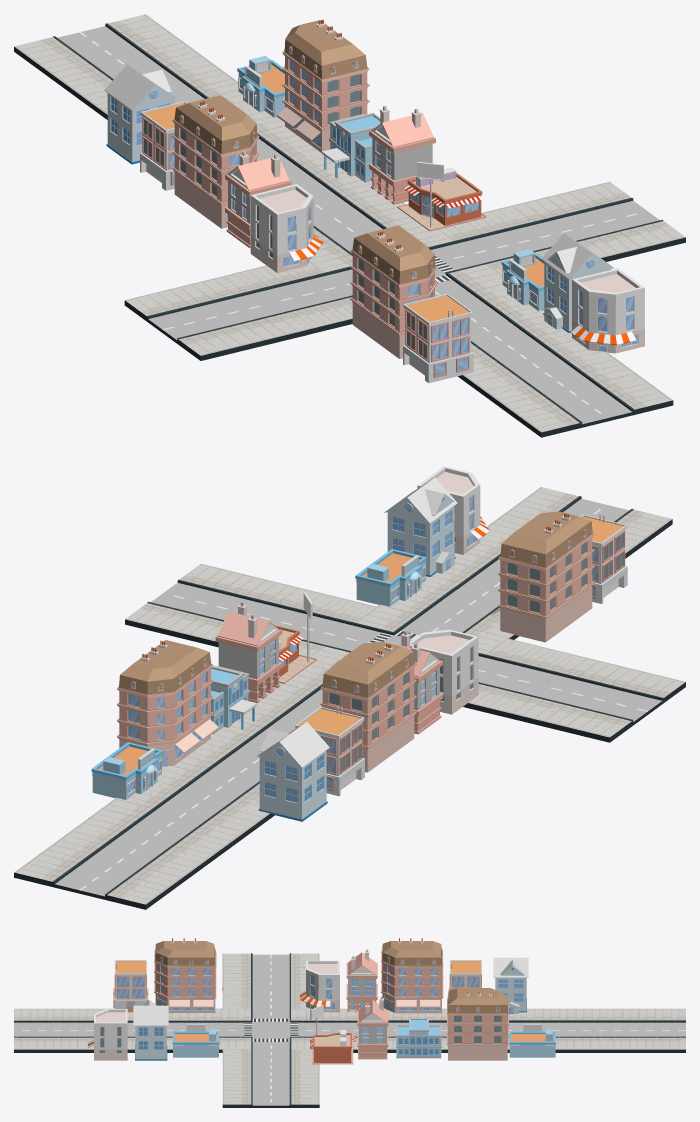
The model's file is city3.fbx.
The picture shows the model from 3 angles, top to bottom: view 1: azimuth 30°, elevation 25°; view 2: azimuth 150°, elevation 25°; view 3: azimuth 270°, elevation 25°; orthographic projection. The views are drawn at different scales.
Parts seen in each view (by area): view 1: road_part.001, road_part.002, road_part.009, SM_elite_building_01_A.003, road_part.006, road_part.010, SM_elite_building_01_A.001, SM_elite_building_01_A.002, road_part.004, SM_cafe_01_A, SM_Building_01_A.001, SM_cafe_01_A.002 (+12 smaller); view 2: road_part.001, SM_elite_building_01_A.001, SM_elite_building_01_A.003, road_part.006, road_part.009, road_part.007, SM_elite_building_01_A.002, road_part.010, SM_Guildhall_01_B.002, road_part.003, SM_Guildhall_01_B, road_part.002 (+12 smaller); view 3: road_part.001, SM_elite_building_01_A.002, SM_elite_building_01_A.003, SM_elite_building_01_A.001, road_part.006, road_part.010, road_part.002, road_part.009, road_part.007, SM_Guildhall_01_B, SM_cafe_01_A, SM_cafe_01_A.002 (+12 smaller).
Boxes of the visible parts, x1=… form: road_part.001: x1=232, y1=198, x2=551, y2=334; road_part.002: x1=479, y1=355, x2=673, y2=437; road_part.009: x1=124, y1=274, x2=308, y2=360; SM_elite_building_01_A.003: x1=277, y1=19, x2=369, y2=152; road_part.006: x1=14, y1=14, x2=207, y2=96; road_part.010: x1=502, y1=181, x2=685, y2=261; SM_elite_building_01_A.001: x1=350, y1=225, x2=437, y2=358; SM_elite_building_01_A.002: x1=172, y1=95, x2=259, y2=228; road_part.004: x1=458, y1=310, x2=610, y2=391; SM_cafe_01_A: x1=570, y1=268, x2=644, y2=353; SM_Building_01_A.001: x1=403, y1=293, x2=473, y2=383; SM_cafe_01_A.002: x1=250, y1=184, x2=323, y2=272; road_part.001: x1=269, y1=580, x2=577, y2=716; SM_elite_building_01_A.001: x1=492, y1=511, x2=594, y2=642; SM_elite_building_01_A.003: x1=117, y1=640, x2=218, y2=766; road_part.006: x1=14, y1=827, x2=208, y2=909; road_part.009: x1=502, y1=655, x2=685, y2=742; road_part.007: x1=76, y1=785, x2=269, y2=863; SM_elite_building_01_A.002: x1=320, y1=641, x2=416, y2=772; road_part.010: x1=125, y1=563, x2=307, y2=647; SM_Guildhall_01_B.002: x1=257, y1=721, x2=329, y2=821; road_part.003: x1=153, y1=739, x2=274, y2=818; SM_Guildhall_01_B: x1=384, y1=477, x2=457, y2=576; road_part.002: x1=486, y1=487, x2=672, y2=558; road_part.001: x1=172, y1=987, x2=358, y2=1072; SM_elite_building_01_A.002: x1=381, y1=938, x2=443, y2=1013; SM_elite_building_01_A.003: x1=447, y1=988, x2=509, y2=1060; SM_elite_building_01_A.001: x1=154, y1=938, x2=216, y2=1013; road_part.006: x1=606, y1=1008, x2=685, y2=1052; road_part.010: x1=222, y1=1071, x2=319, y2=1107; road_part.002: x1=14, y1=1008, x2=93, y2=1052; road_part.009: x1=222, y1=953, x2=319, y2=990; road_part.007: x1=527, y1=1008, x2=606, y2=1052; SM_Guildhall_01_B: x1=133, y1=1000, x2=168, y2=1060; SM_cafe_01_A: x1=87, y1=1009, x2=127, y2=1060; SM_cafe_01_A.002: x1=300, y1=960, x2=339, y2=1012.
Size of the model in its own units: 17937 by 3738 by 33758.
